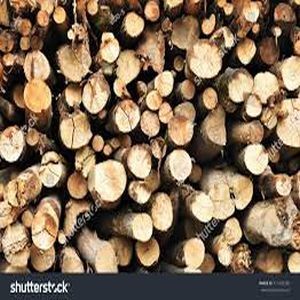log: (258, 193, 300, 252), (207, 169, 253, 220), (90, 159, 131, 207), (54, 39, 94, 86), (185, 38, 224, 80), (56, 109, 94, 151), (223, 64, 259, 108), (274, 97, 300, 154), (131, 40, 174, 74), (81, 68, 111, 116), (200, 104, 228, 154), (1, 224, 31, 269), (168, 16, 202, 54), (164, 147, 196, 187), (29, 209, 58, 253), (124, 142, 154, 183), (20, 78, 54, 114), (240, 143, 278, 175), (111, 97, 140, 136), (95, 30, 124, 69), (20, 47, 53, 81), (37, 152, 65, 192), (115, 47, 143, 86), (1, 123, 25, 167), (149, 191, 174, 232), (178, 235, 205, 272), (90, 244, 121, 276), (251, 70, 282, 102), (28, 240, 58, 272), (167, 116, 196, 149), (188, 190, 214, 226), (132, 237, 161, 269), (2, 177, 30, 210), (259, 35, 284, 69), (71, 144, 97, 176), (66, 170, 91, 203), (126, 179, 154, 207), (138, 105, 161, 139), (107, 235, 132, 266), (153, 69, 177, 101), (122, 11, 147, 41), (242, 117, 264, 151), (280, 55, 300, 92), (131, 211, 154, 243), (60, 80, 85, 109), (236, 37, 257, 68), (216, 241, 242, 266), (274, 2, 300, 27), (58, 254, 87, 276), (271, 173, 295, 199), (223, 216, 243, 247), (178, 77, 199, 105), (109, 77, 133, 101), (149, 137, 170, 164), (199, 85, 220, 112), (173, 101, 198, 123), (260, 106, 281, 131), (24, 124, 44, 150), (244, 92, 263, 119), (144, 90, 166, 112), (157, 102, 176, 127), (51, 3, 69, 29), (144, 1, 164, 24), (100, 135, 120, 157), (200, 14, 219, 37), (35, 7, 52, 30), (15, 18, 33, 39), (1, 29, 15, 56), (172, 53, 188, 75), (268, 24, 286, 43), (19, 208, 35, 229), (90, 133, 104, 153)
